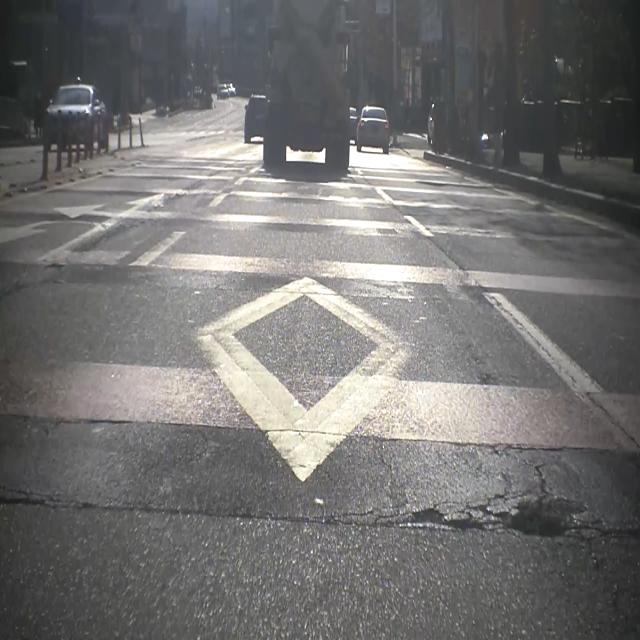Pothole: (389, 473, 591, 562)
